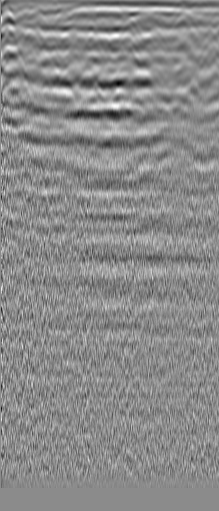오수: (20, 25, 40, 45)
우수: (174, 35, 194, 55)
